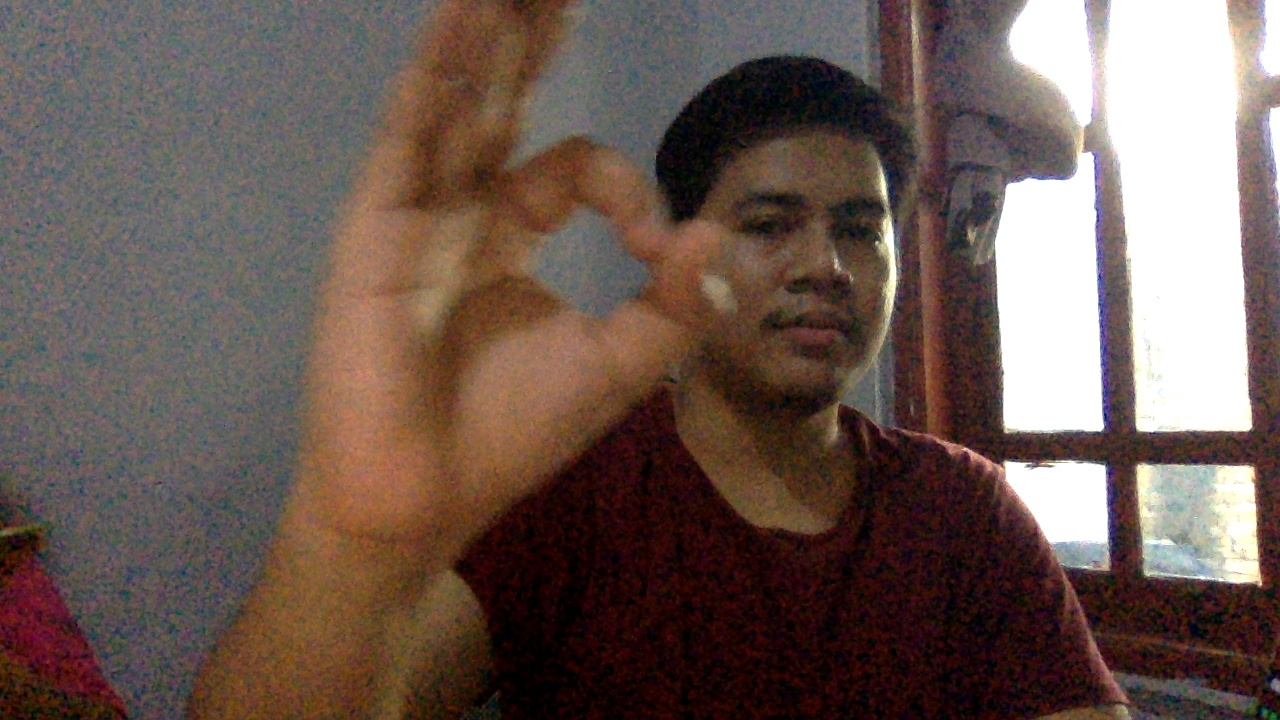thankyou: (242, 1, 716, 567)
